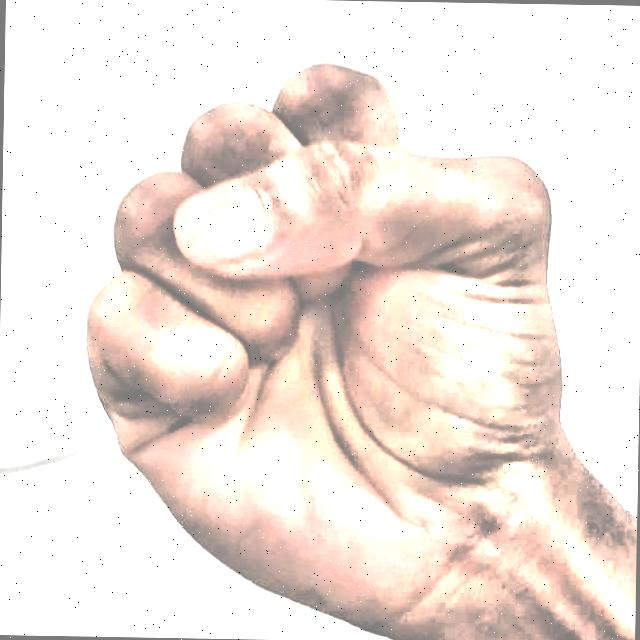Sha: (43, 24, 583, 640)
